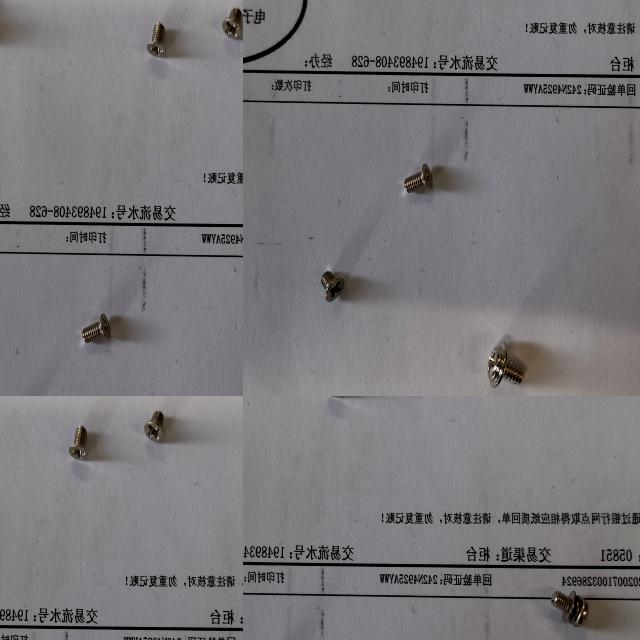Screw: (549, 588, 590, 630)
